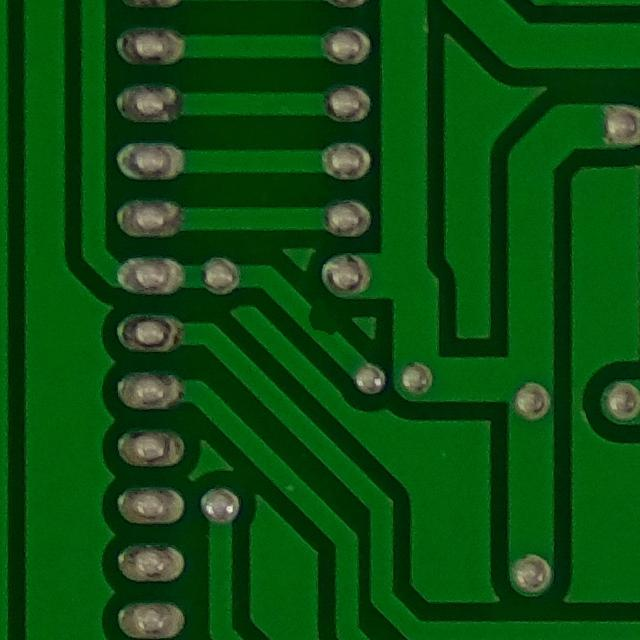mouse_bite: (295, 293, 346, 348)
